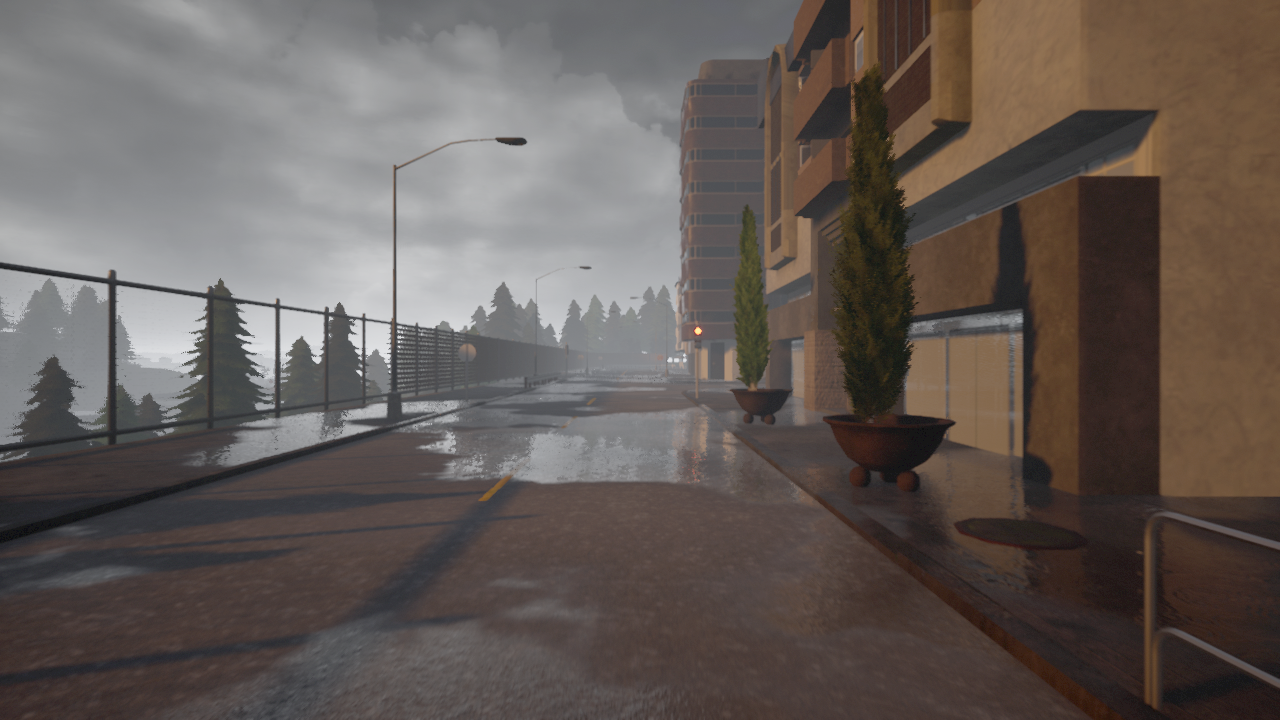red: (693, 325, 703, 350)
